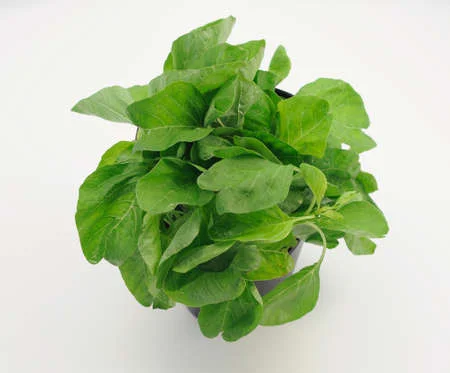Bayam: (55, 31, 392, 327)
